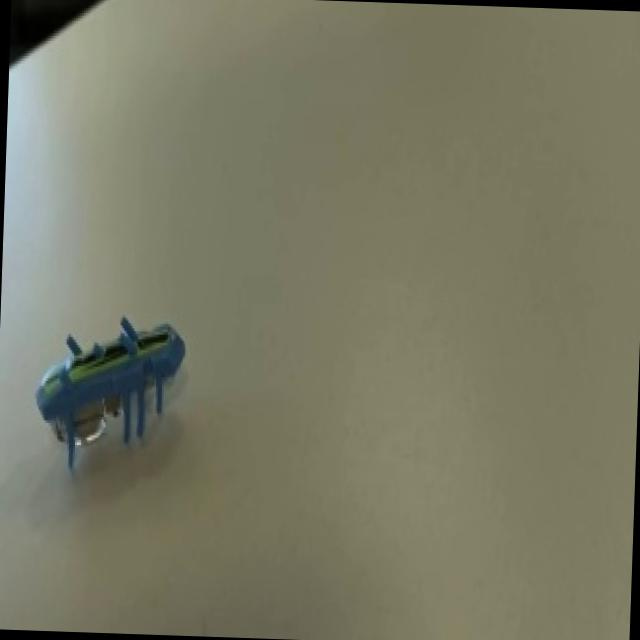3_NanoBug_Celeste: (16, 292, 198, 481)
